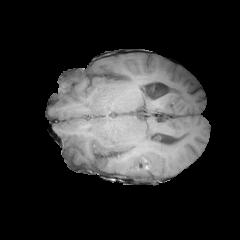glioma: (92, 82, 169, 173)
